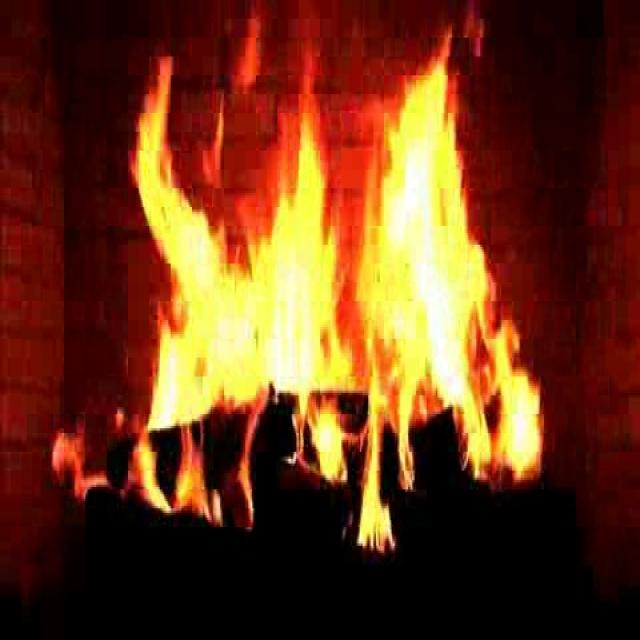fire: (134, 30, 546, 556)
